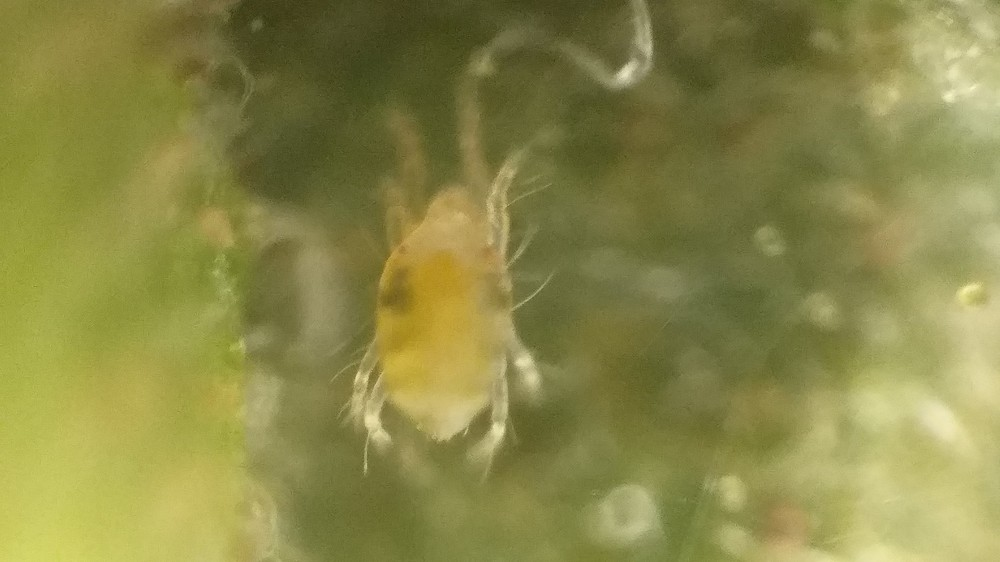Aracnido Rojo: (320, 80, 590, 494)
